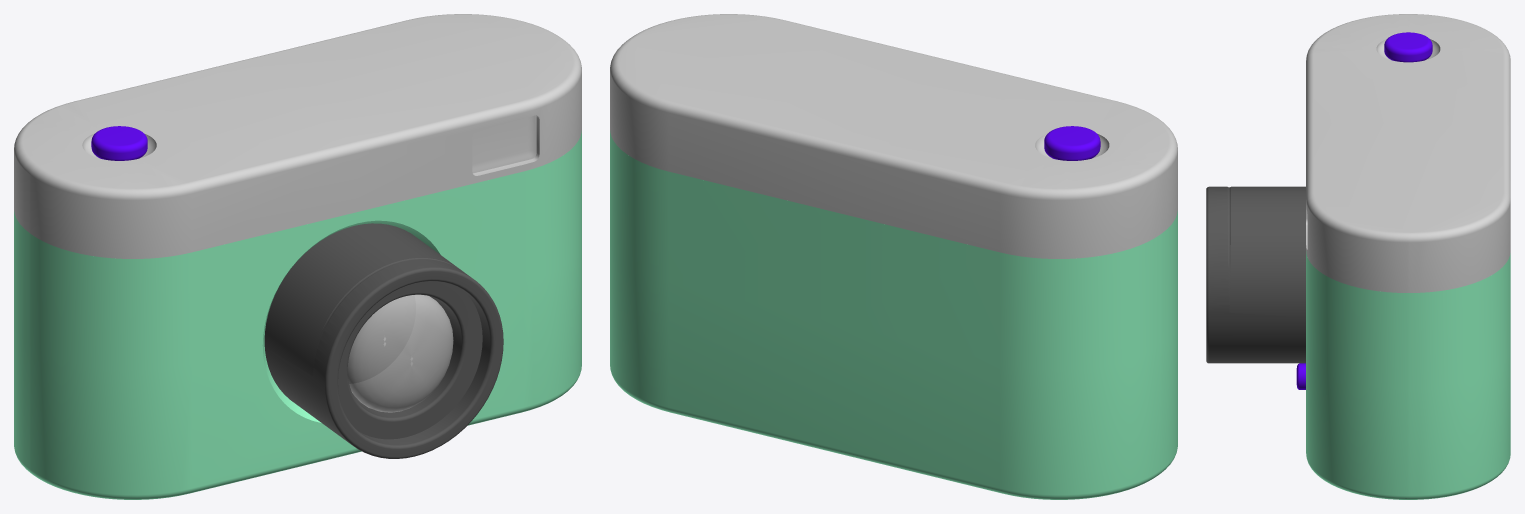
Rendered from cam.glb.
3 views of the same model, side by side, from view 1: azimuth 30°, elevation 25°; view 2: azimuth 150°, elevation 25°; view 3: azimuth 270°, elevation 25° (orthographic). The views are drawn at different scales.
Parts seen in each view (by area): view 1: Body, body top, Cylinder 4 & Cylinder 6 & Cylinder 5 & Torus, Cylinder 4, Cylinder 7, sensor, Box 6, Cylinder; view 2: Body, body top, Cylinder; view 3: body top, Body, Cylinder 4 & Cylinder 6 & Cylinder 5 & Torus, Cylinder 4, Cylinder.
Boxes of the visible parts, <box> form: Body: <box>14,131,581,499</box>; body top: <box>14,14,581,258</box>; Cylinder 4 & Cylinder 6 & Cylinder 5 & Torus: <box>264,223,503,458</box>; Cylinder 4: <box>266,223,502,458</box>; Cylinder 7: <box>347,294,453,412</box>; sensor: <box>348,295,415,383</box>; Box 6: <box>472,115,536,173</box>; Cylinder: <box>91,126,147,160</box>; Body: <box>610,131,1177,499</box>; body top: <box>610,14,1177,258</box>; Cylinder: <box>1044,126,1100,160</box>; body top: <box>1306,14,1510,292</box>; Body: <box>1306,251,1510,499</box>; Cylinder 4 & Cylinder 6 & Cylinder 5 & Torus: <box>1206,186,1305,362</box>; Cylinder 4: <box>1206,187,1305,363</box>; Cylinder: <box>1384,32,1432,62</box>.
Size of the model in its own units: 0.21 by 0.1199 by 0.1205.
